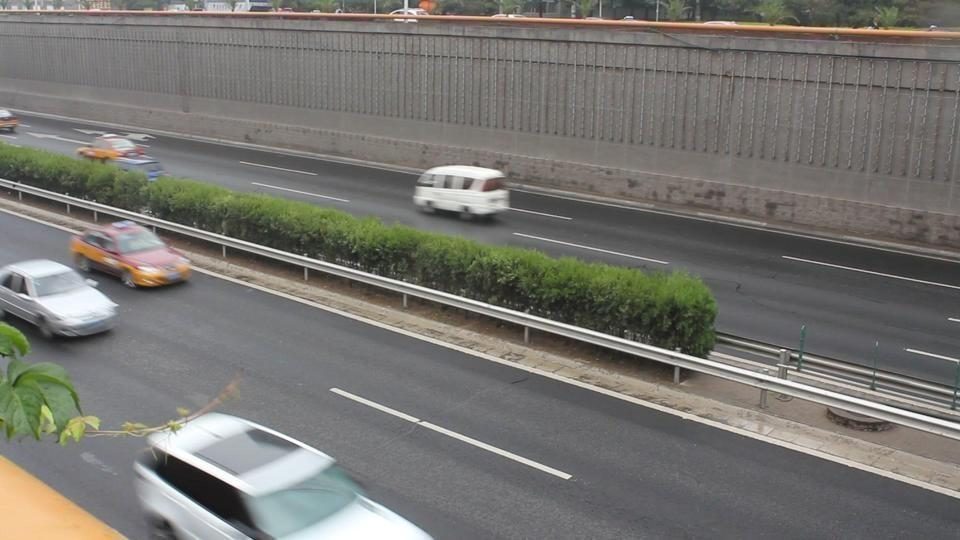car: (131, 408, 435, 538), (0, 258, 123, 340), (68, 219, 193, 288), (413, 164, 512, 222), (75, 134, 164, 171), (0, 108, 20, 132)
